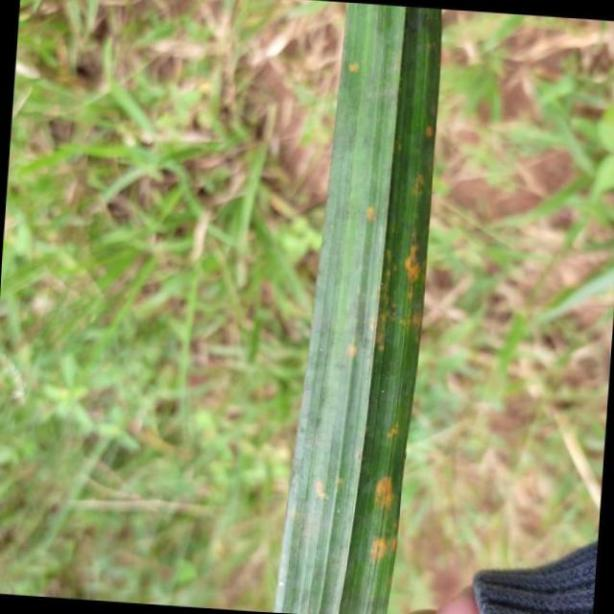Kalium: (274, 0, 446, 614)
